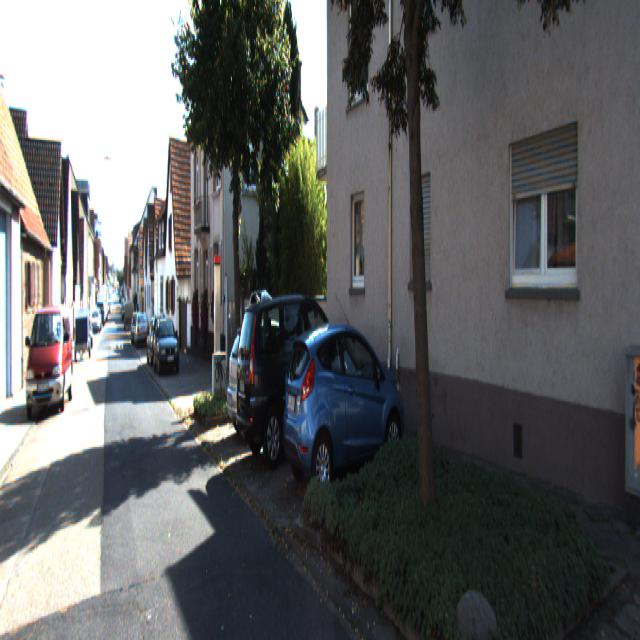Car: (227, 288, 358, 475), (278, 315, 408, 499), (224, 320, 323, 445), (23, 307, 74, 420), (152, 318, 180, 376)
